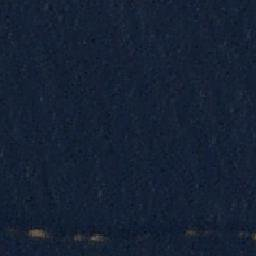debris: (75, 233, 109, 243), (25, 226, 47, 238), (237, 229, 256, 242), (182, 228, 201, 236)
